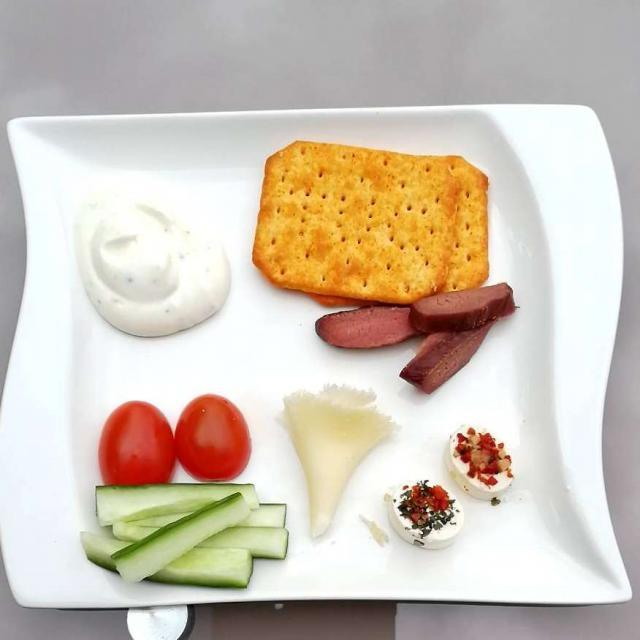cucumber: (84, 488, 285, 583)
dried-meat: (300, 287, 516, 390)
sour-cream: (73, 193, 228, 334)
tete-de-moine: (282, 387, 391, 535)
tomato: (103, 398, 249, 486)
